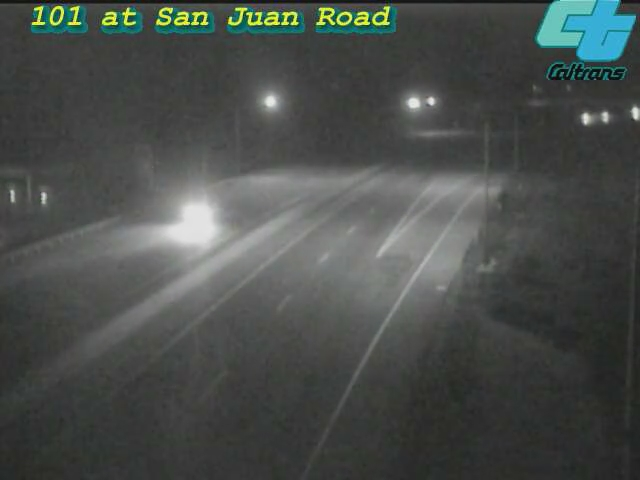vehicle: (151, 178, 231, 258), (583, 90, 633, 140), (562, 94, 612, 144), (609, 89, 640, 139)
